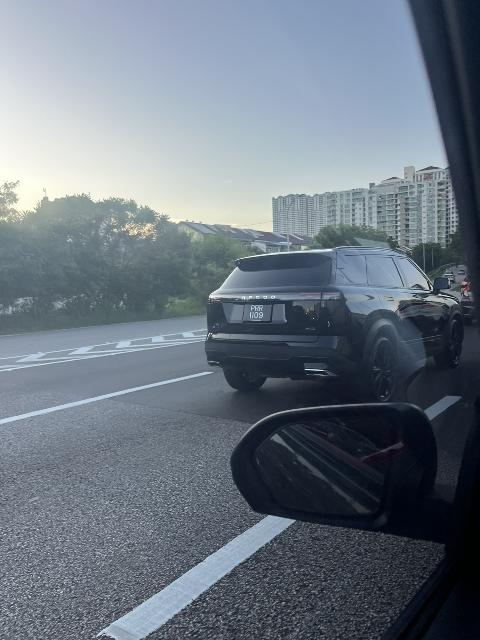License_Plate: (237, 301, 280, 325)
car: (193, 228, 455, 401)
